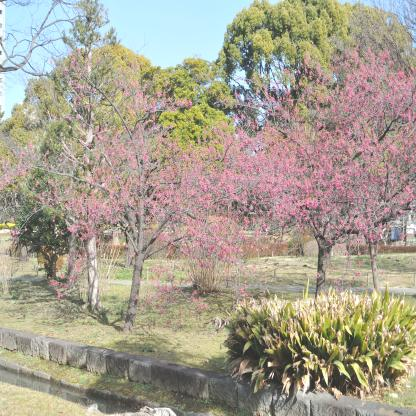Ume: (0, 42, 257, 323), (216, 40, 416, 297)
